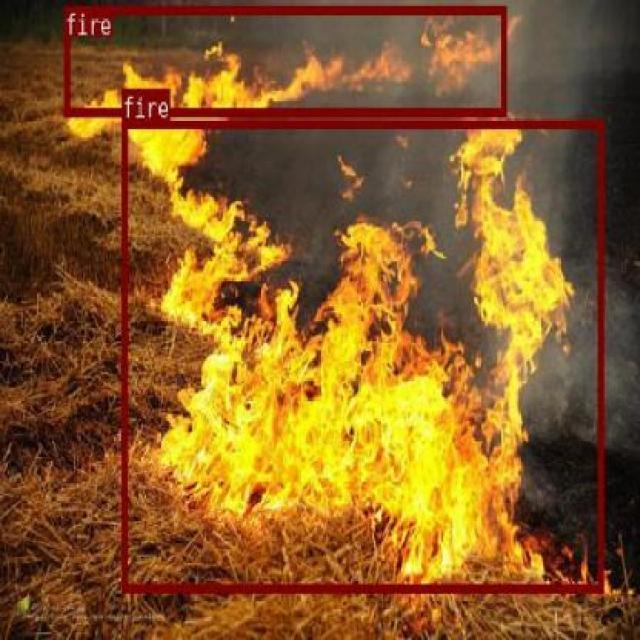Fire: (120, 118, 602, 592), (63, 5, 506, 116)
